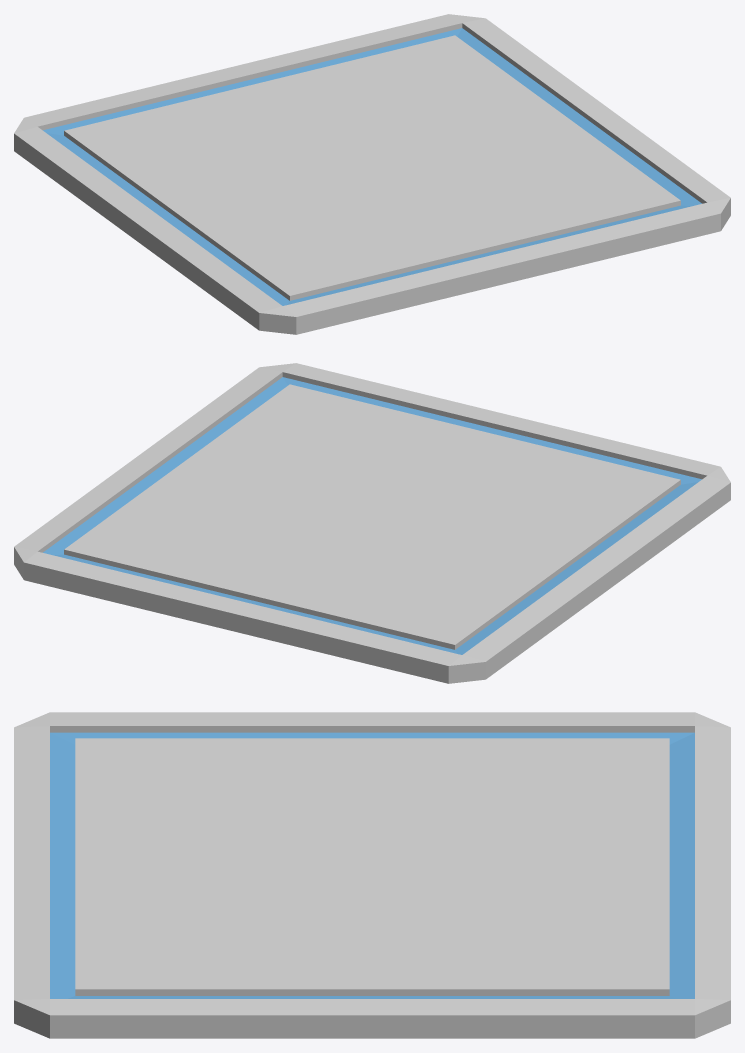
The model's file is ground_01.fbx.
The picture shows the model from 3 angles, top to bottom: view 1: azimuth 30°, elevation 25°; view 2: azimuth 150°, elevation 25°; view 3: azimuth 270°, elevation 25°; orthographic projection. The views are drawn at different scales.
Parts seen in each view (by area): view 1: Cube.006; view 2: Cube.006; view 3: Cube.006.
Part boxes in pixels (bbox=[...]): Cube.006: bbox=[14, 14, 730, 334]; Cube.006: bbox=[14, 363, 730, 683]; Cube.006: bbox=[14, 712, 730, 1038].
Size of the model in its own units: 1000 by 40 by 1000.
